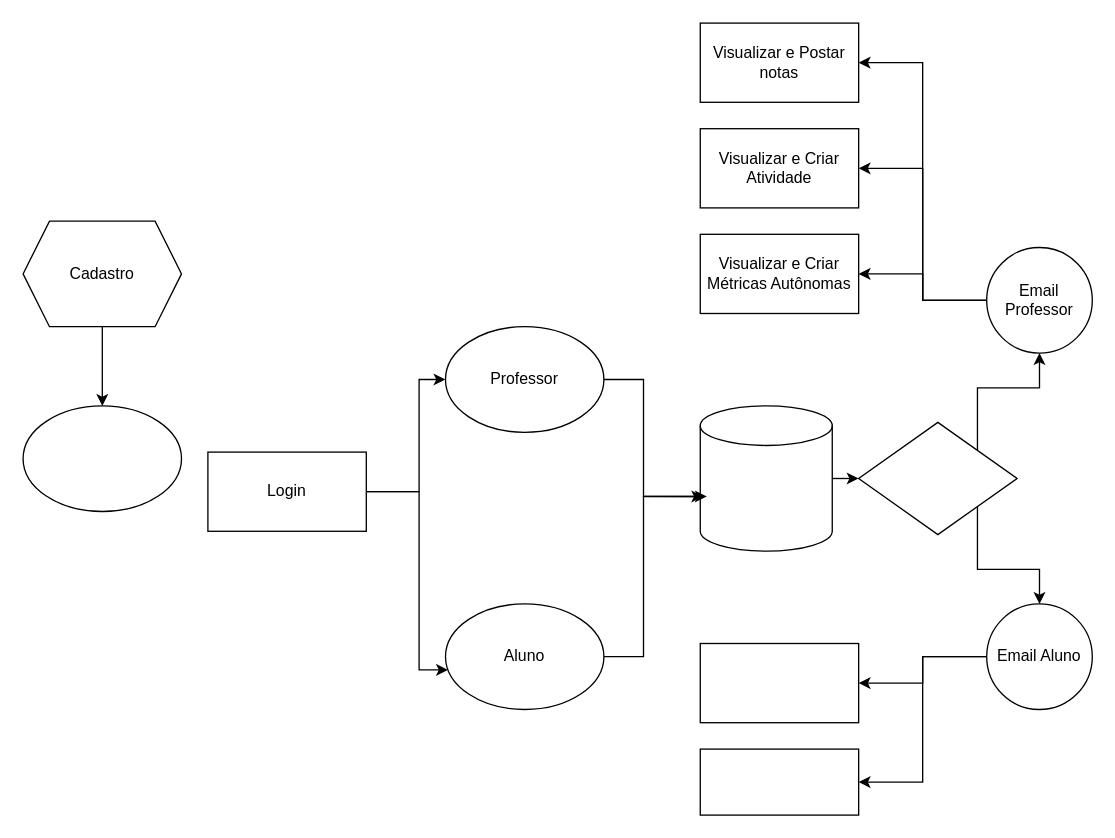
This 1115x838 diagram has some shape labels left out. The shapes that lost their labels are listed below. From the top down, each one's centre as x and y in pixels, then its label:
At [102,458]: "Professor ou Aluno?".
At [765,478]: "DB/Autenticação".
At [937,478]: "ID/Criado pela instituição".
At [779,682]: "Visualizar e Entregar Atividade".
At [779,781]: "Visualizar as PRÓPRIAS notas".
